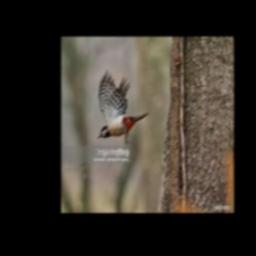Woodpecker: (98, 70, 149, 144)
